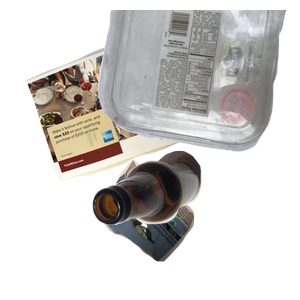glass: (90, 148, 300, 300)
paper: (23, 24, 232, 199)
plastic: (95, 10, 300, 154)
trash: (95, 157, 282, 300)
